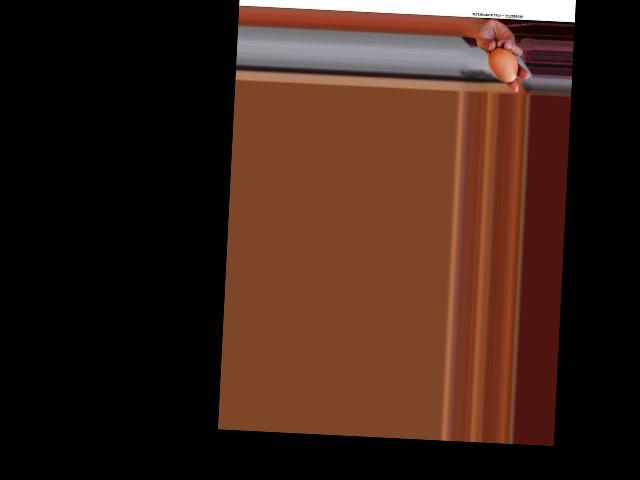egg: (488, 47, 519, 82)
